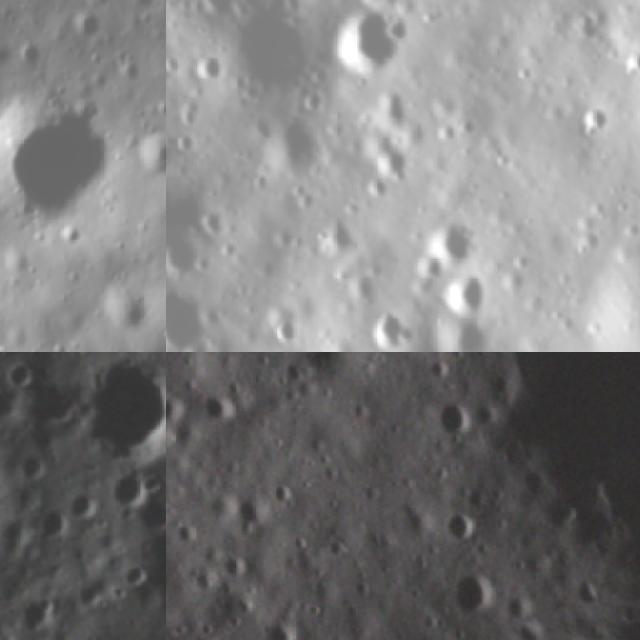crater: (453, 352, 640, 598), (0, 92, 111, 221), (62, 359, 166, 468), (222, 0, 322, 104), (316, 0, 408, 83), (251, 105, 327, 184), (433, 554, 506, 624), (420, 378, 482, 447), (166, 283, 221, 352), (420, 212, 478, 270), (94, 280, 155, 334), (434, 264, 491, 321), (361, 303, 421, 352), (227, 480, 281, 534), (309, 210, 363, 262), (368, 82, 417, 138), (572, 96, 622, 149), (433, 315, 499, 352), (182, 44, 228, 90), (134, 120, 166, 183), (166, 232, 202, 286), (567, 1, 608, 45), (440, 505, 482, 545), (213, 544, 251, 586), (254, 611, 306, 640), (610, 42, 640, 88), (180, 0, 246, 18), (167, 128, 200, 160), (166, 479, 179, 547), (123, 0, 162, 18)
